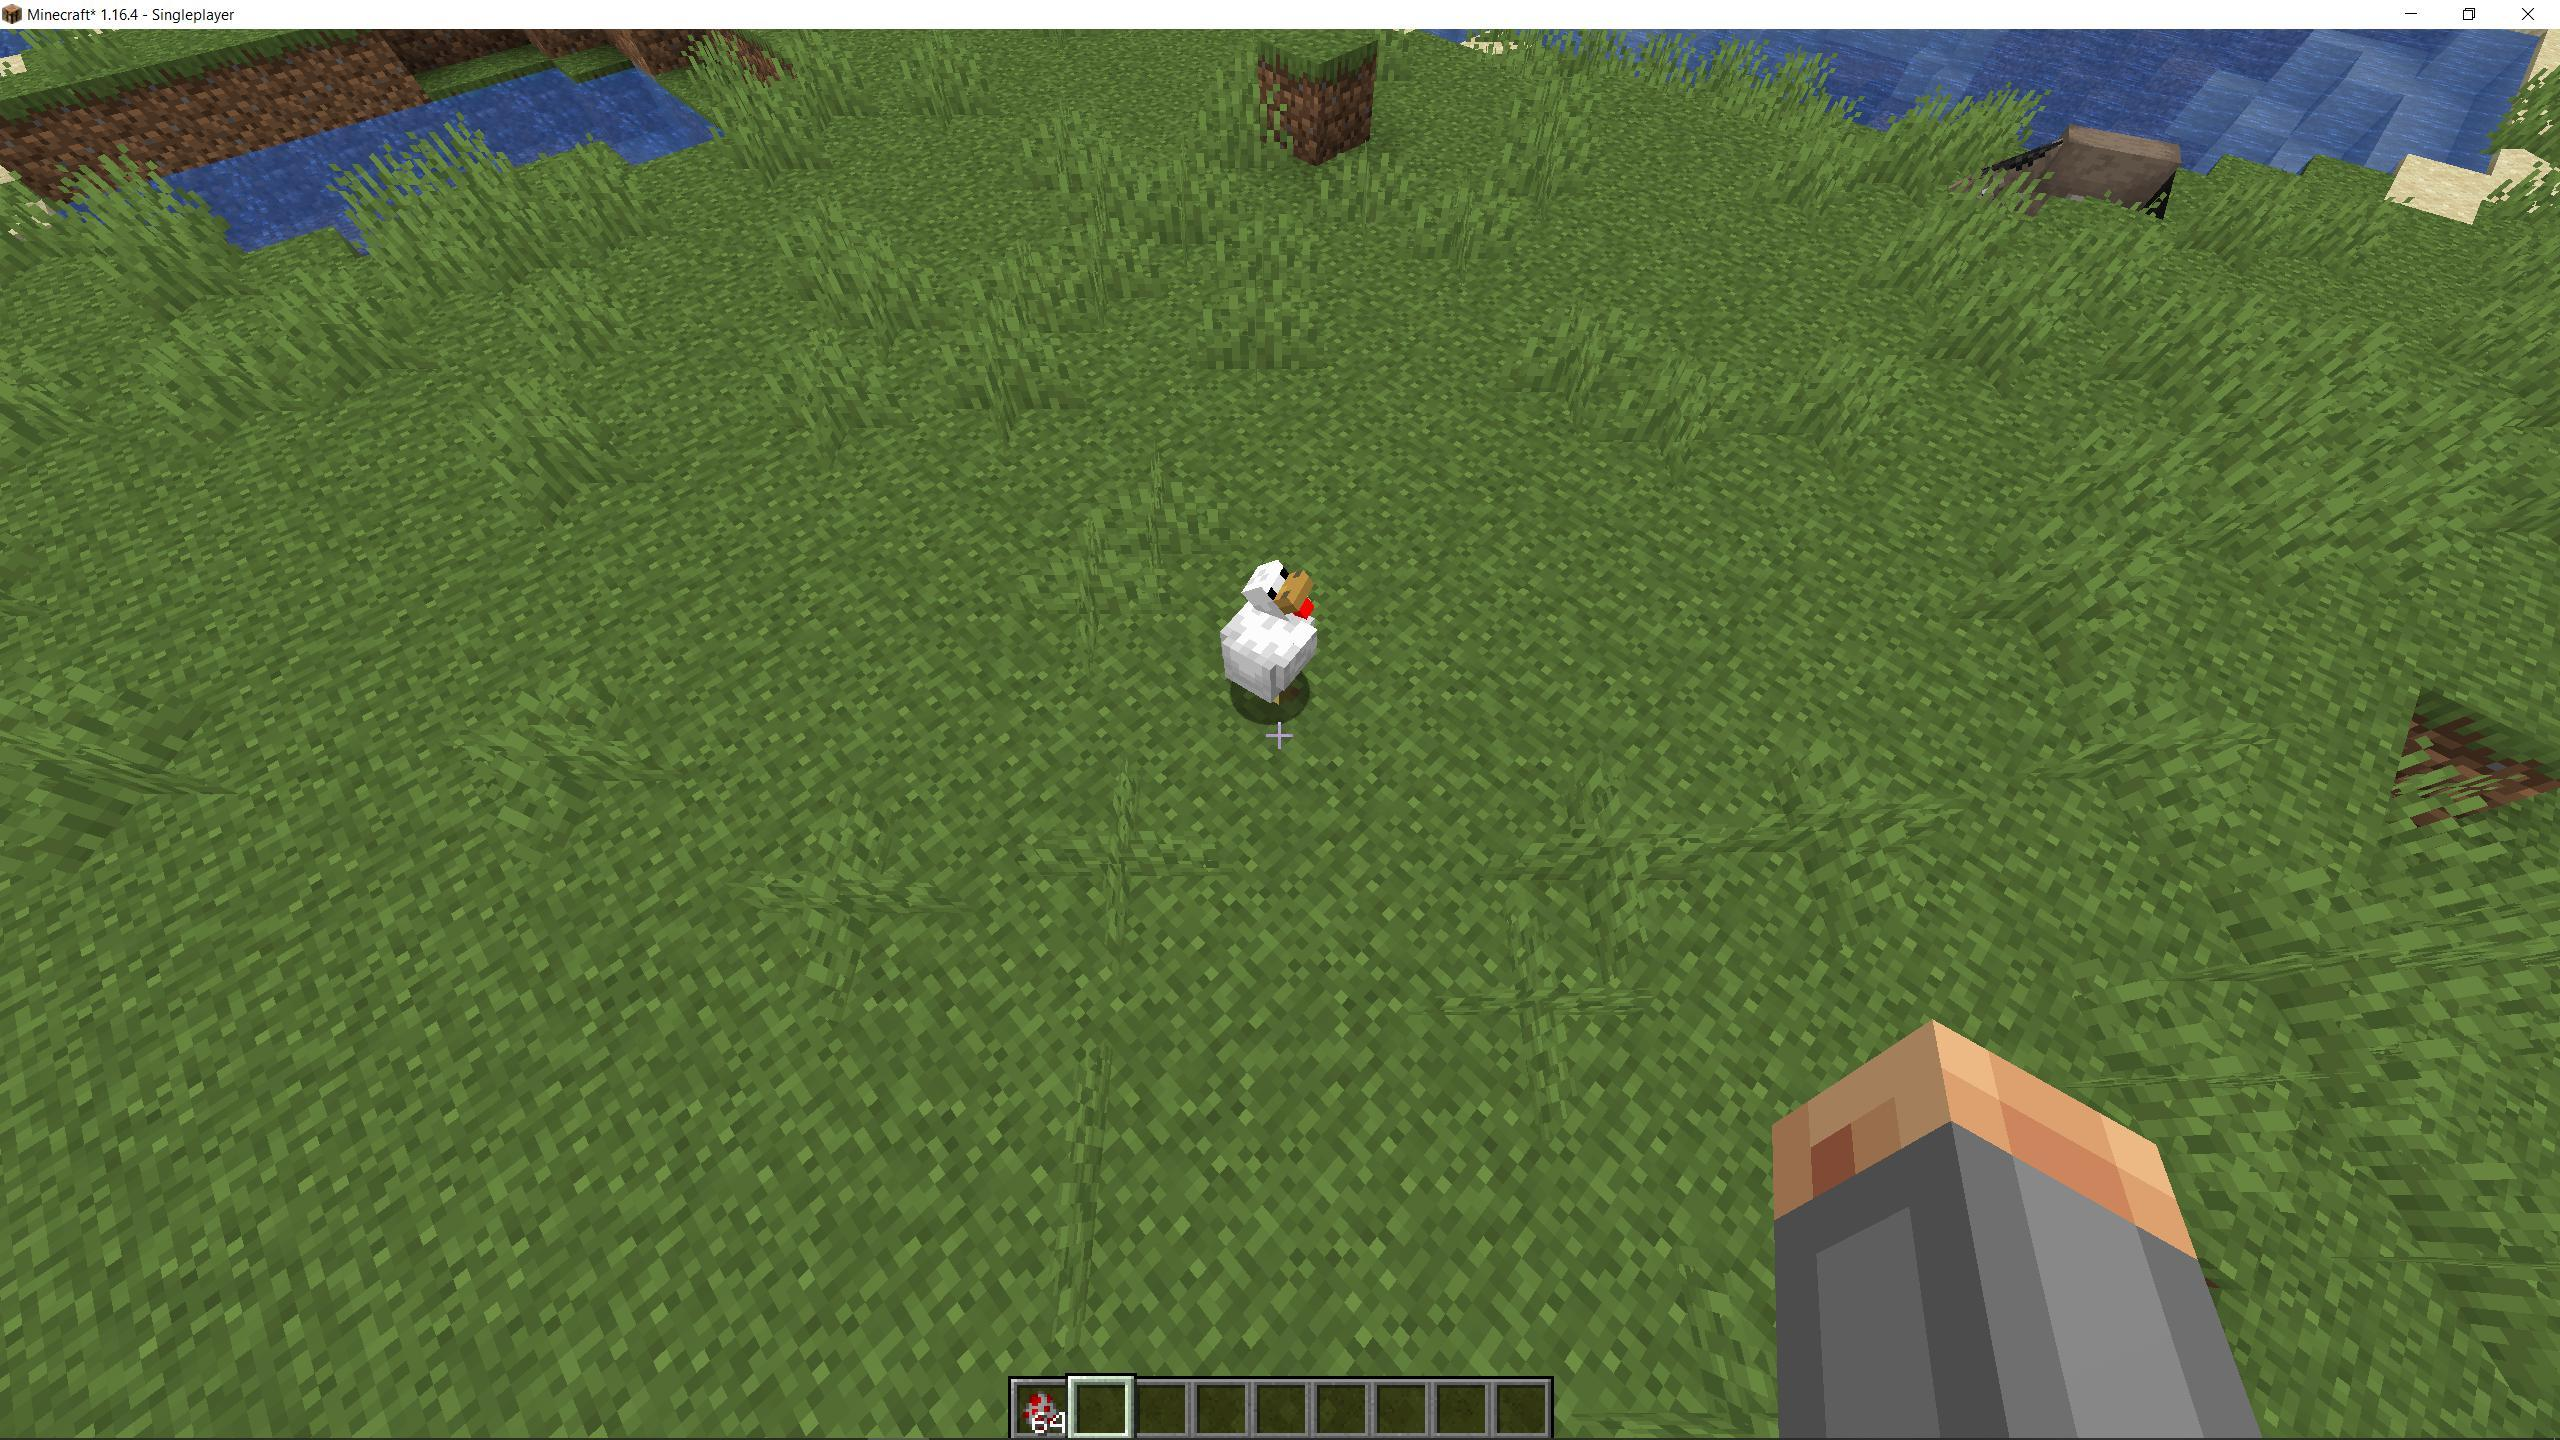chicken: (1211, 557, 1326, 728)
